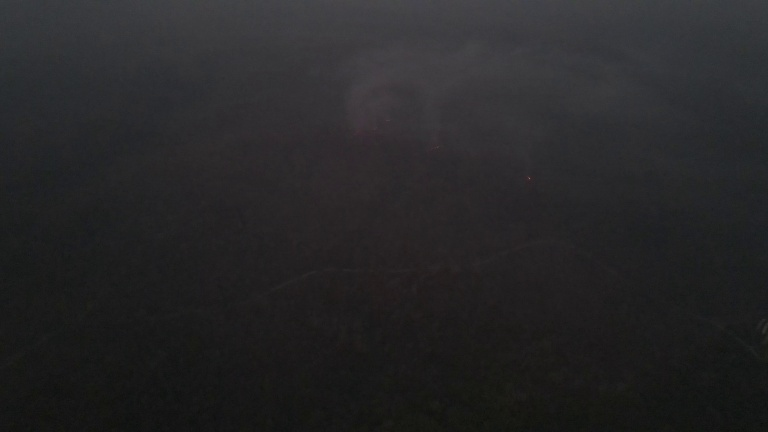fire: (380, 116, 391, 126), (433, 144, 446, 152), (525, 174, 534, 183)
smoke: (333, 44, 560, 152)
